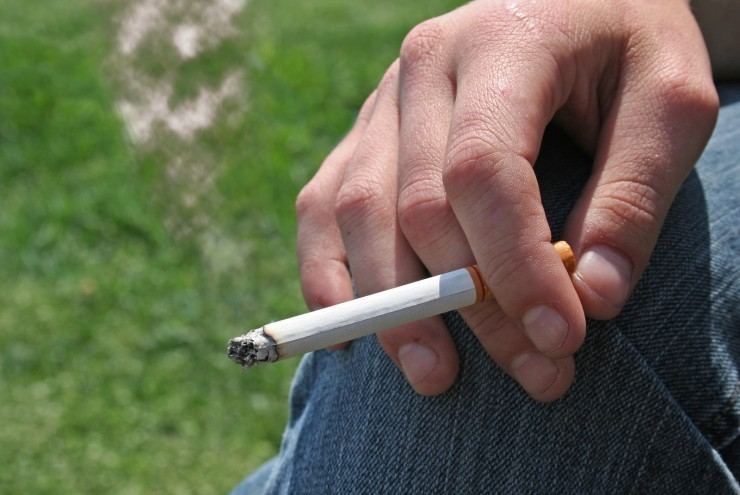cigarette: (221, 240, 595, 367)
